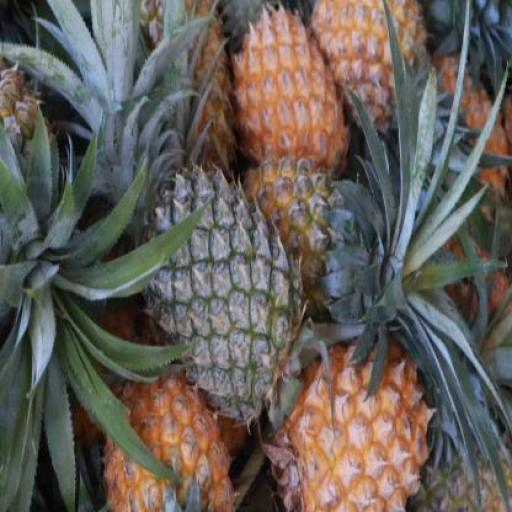Pineapple - v8 v1: (279, 336, 430, 512), (232, 6, 346, 188), (104, 376, 232, 512), (312, 0, 426, 133)
